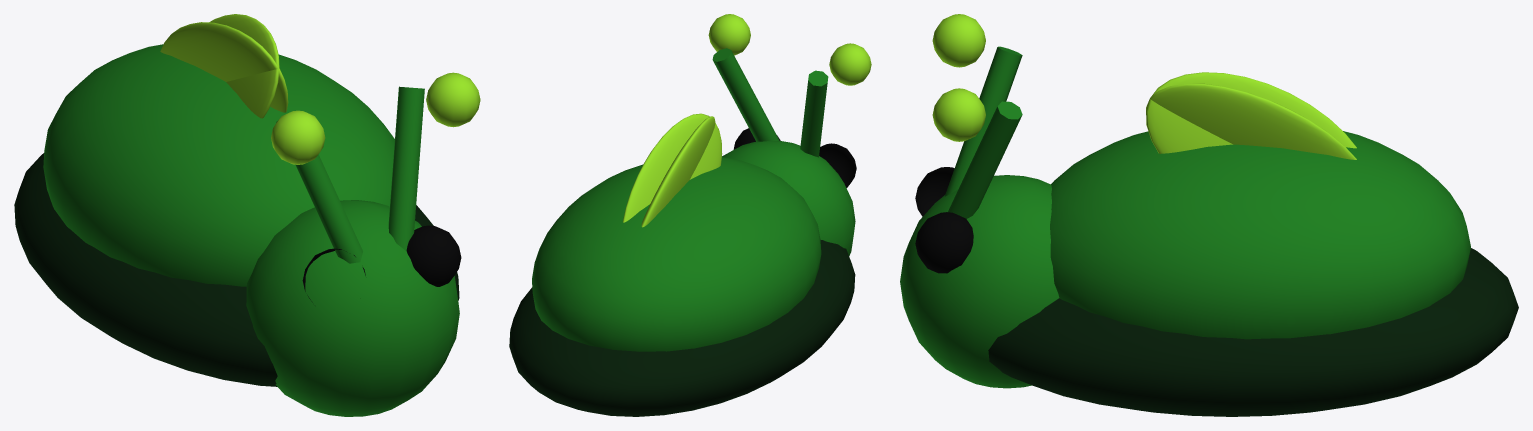
Rendered from liana.obj.
3 views of the same model, side by side, from view 1: azimuth 30°, elevation 25°; view 2: azimuth 150°, elevation 25°; view 3: azimuth 270°, elevation 25° (orthographic). The views are drawn at different scales.
Size of the model in its own units: 0.424 by 0.4007 by 0.6858.
